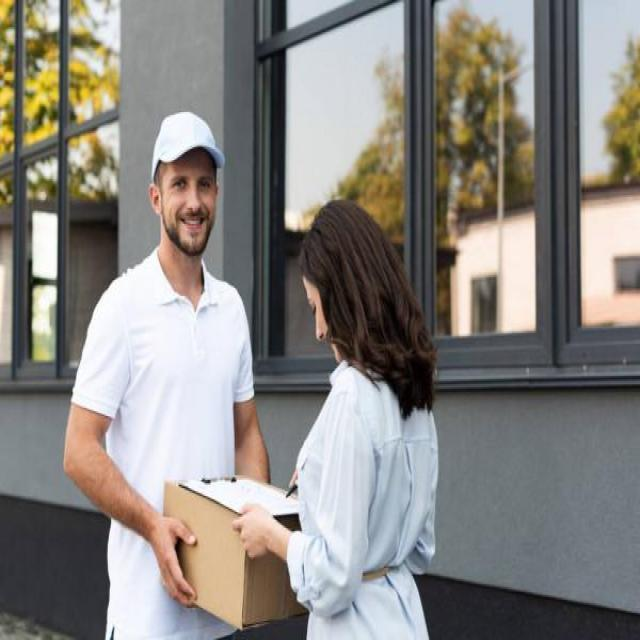box: (162, 468, 317, 637)
